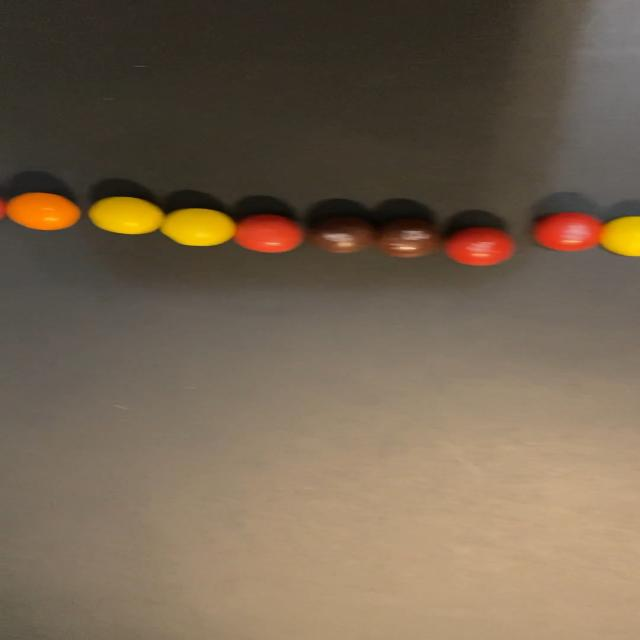smartie: (87, 196, 164, 234), (159, 208, 235, 246), (4, 192, 79, 230), (533, 212, 603, 251), (233, 214, 303, 252), (444, 227, 514, 265), (307, 216, 373, 253), (376, 219, 440, 257), (601, 216, 640, 256)
